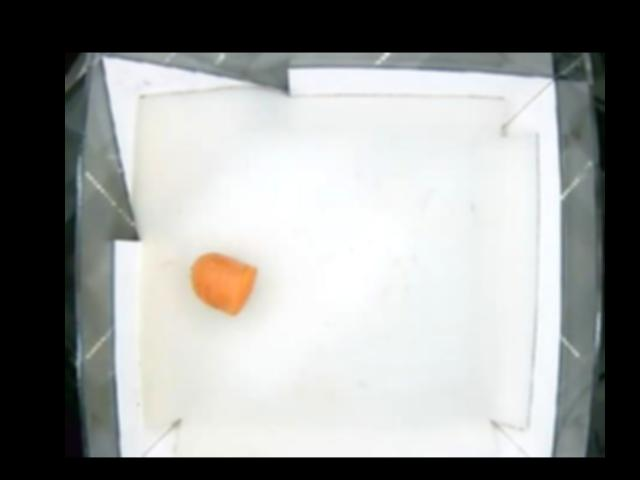Carrot: (189, 253, 258, 316)
